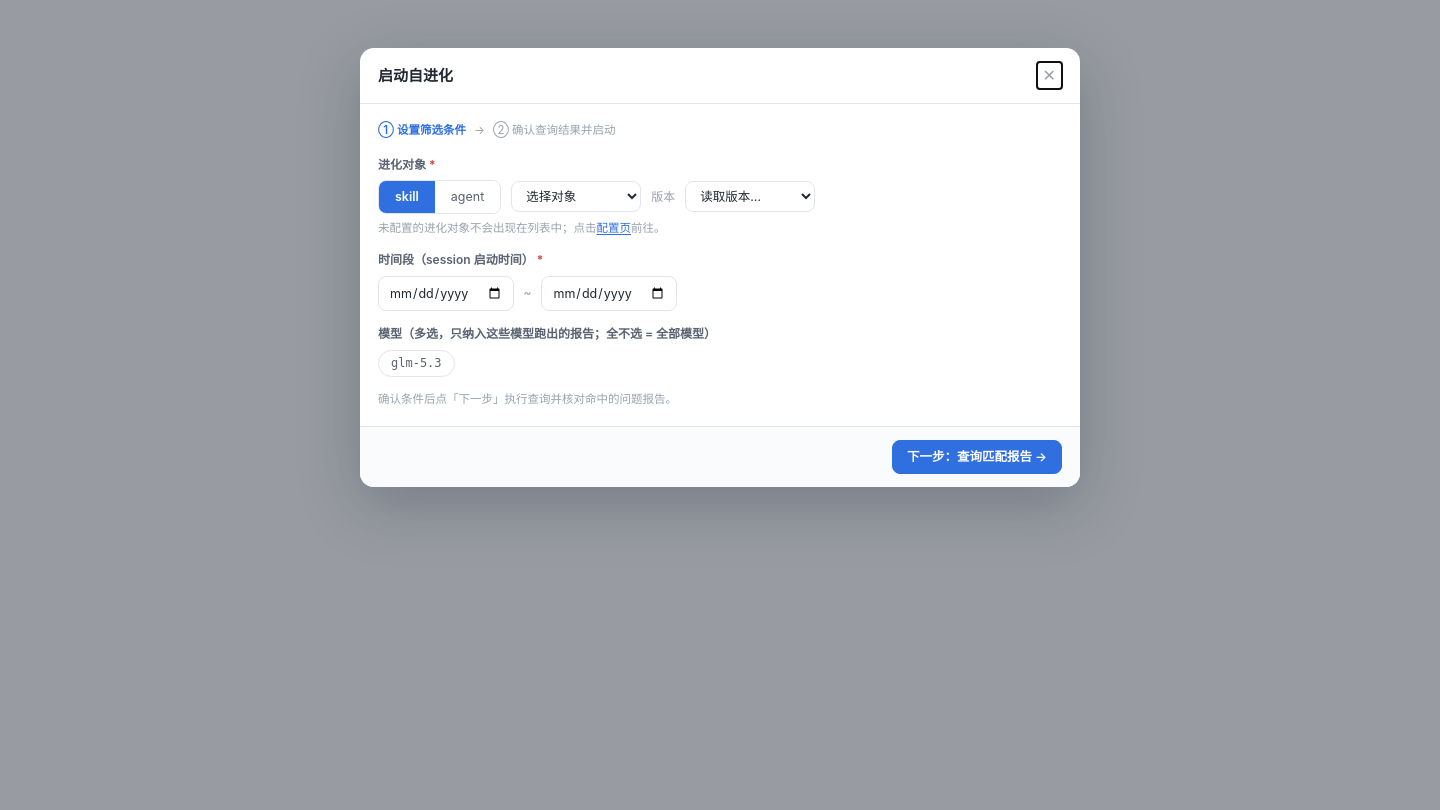
Test: launch wizard › renders only nonzero attribution types in the distribution and legend
The image size is (1440, 810).
Select "deep-research" in the dropdown with test id "wizard-target" at (576, 197), box top-left (511, 181), bottom-right (641, 212)
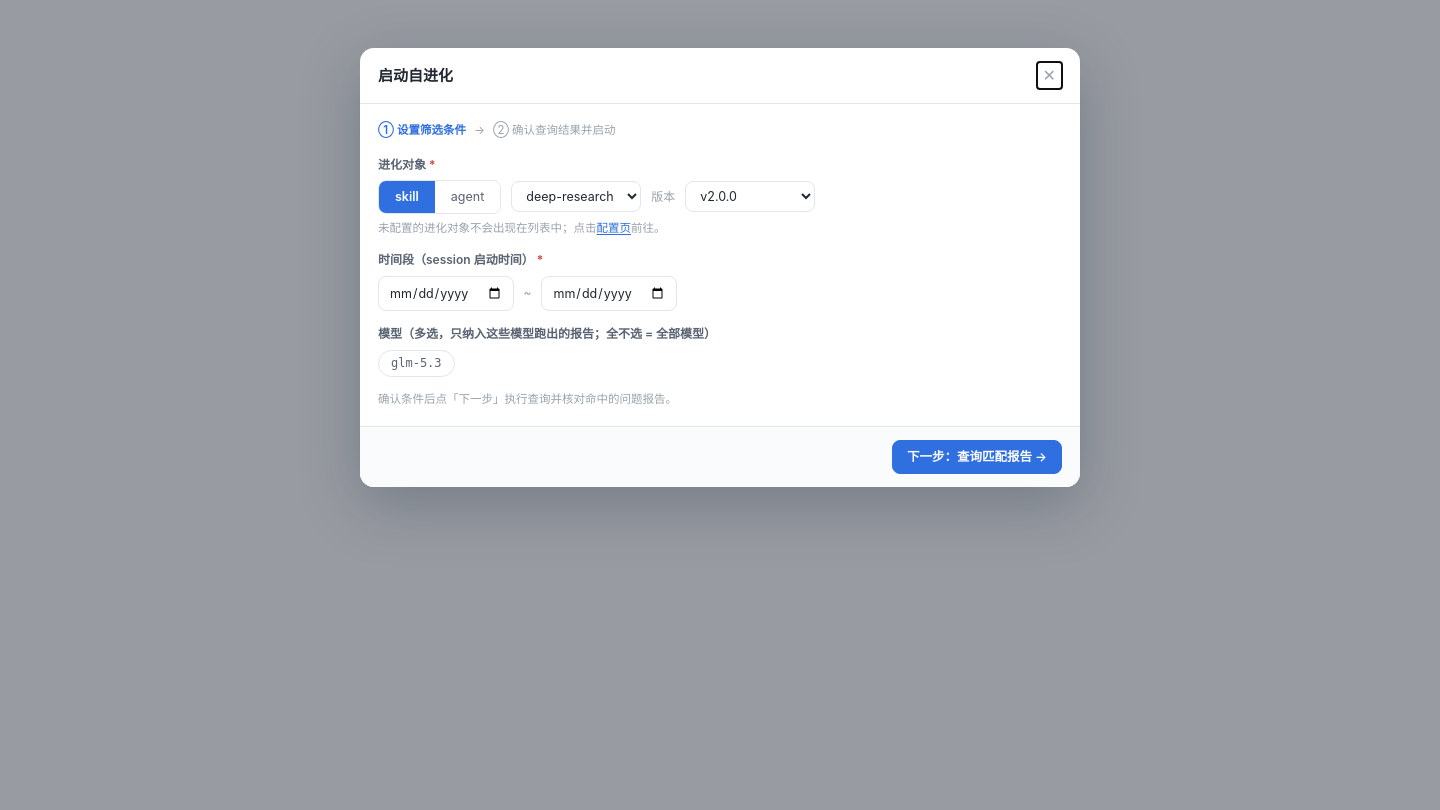
Select "v2.0.0" in the dropdown with test id "wizard-version" at (750, 197), box top-left (685, 181), bottom-right (815, 212)
Type "2026-08-01" into the date field with test id "wizard-from" at (446, 294), box top-left (378, 276), bottom-right (514, 311)
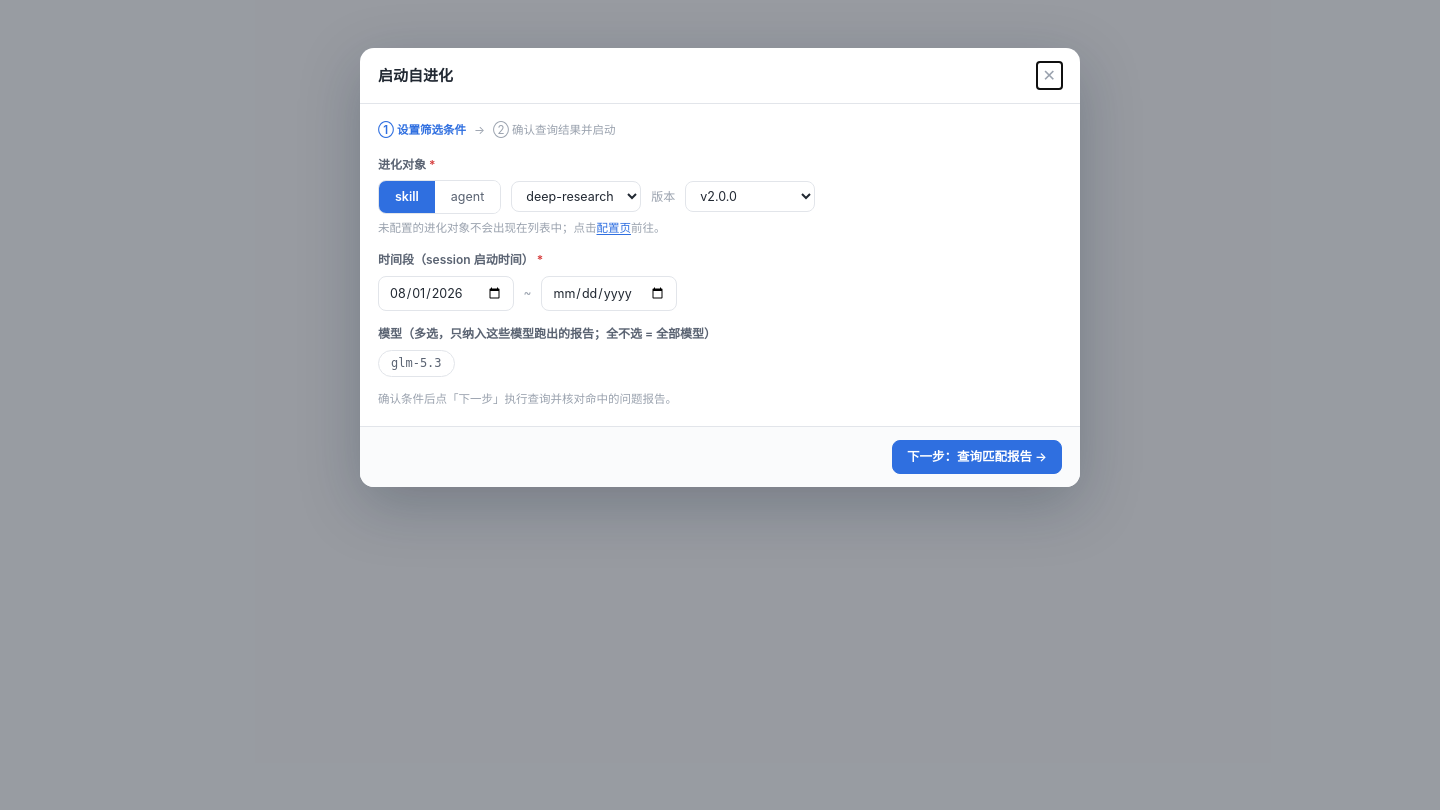
Type "2026-08-31" into the date field with test id "wizard-to" at (609, 294), box top-left (542, 276), bottom-right (677, 311)
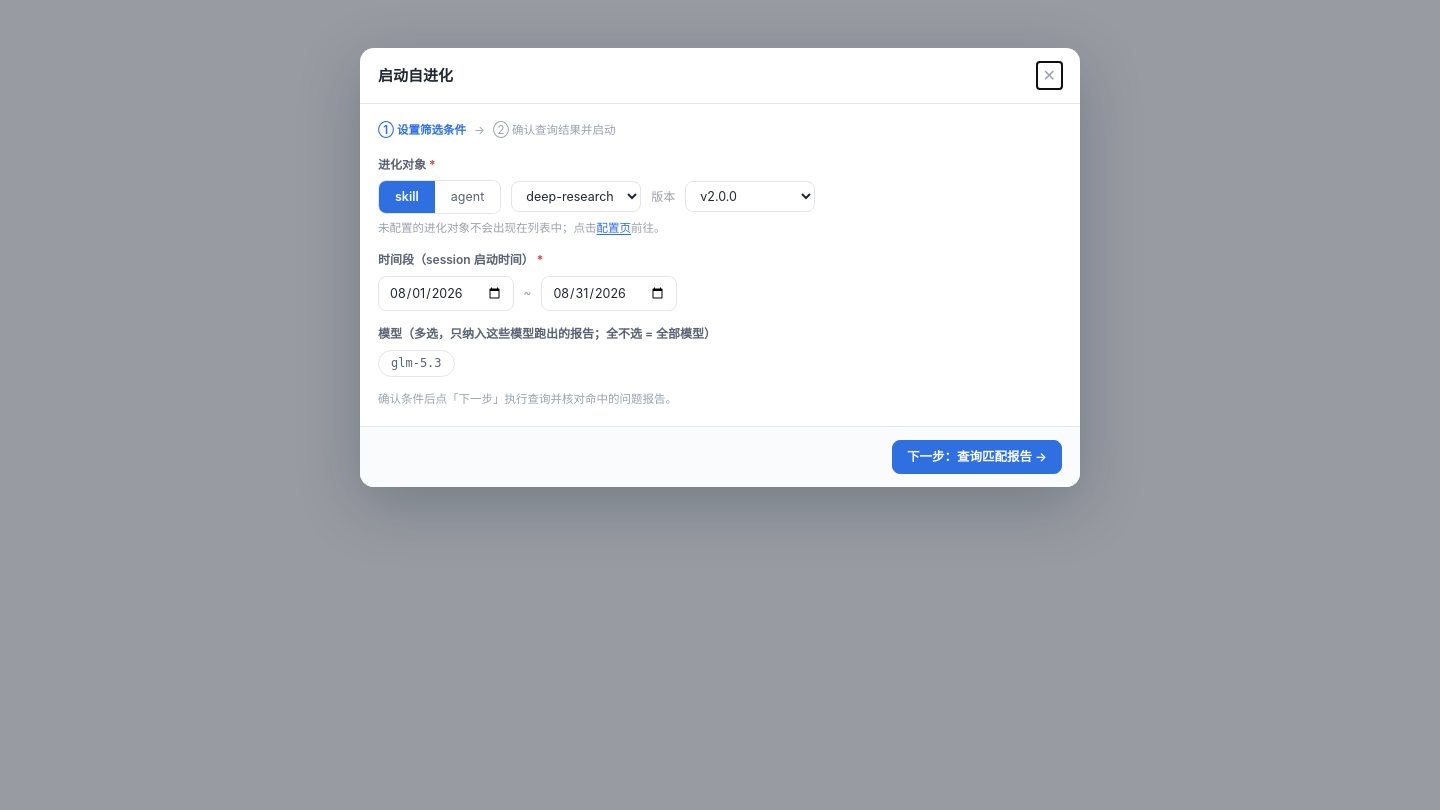
Click the button with test id "wizard-next" at (977, 457), box top-left (892, 440), bottom-right (1062, 474)
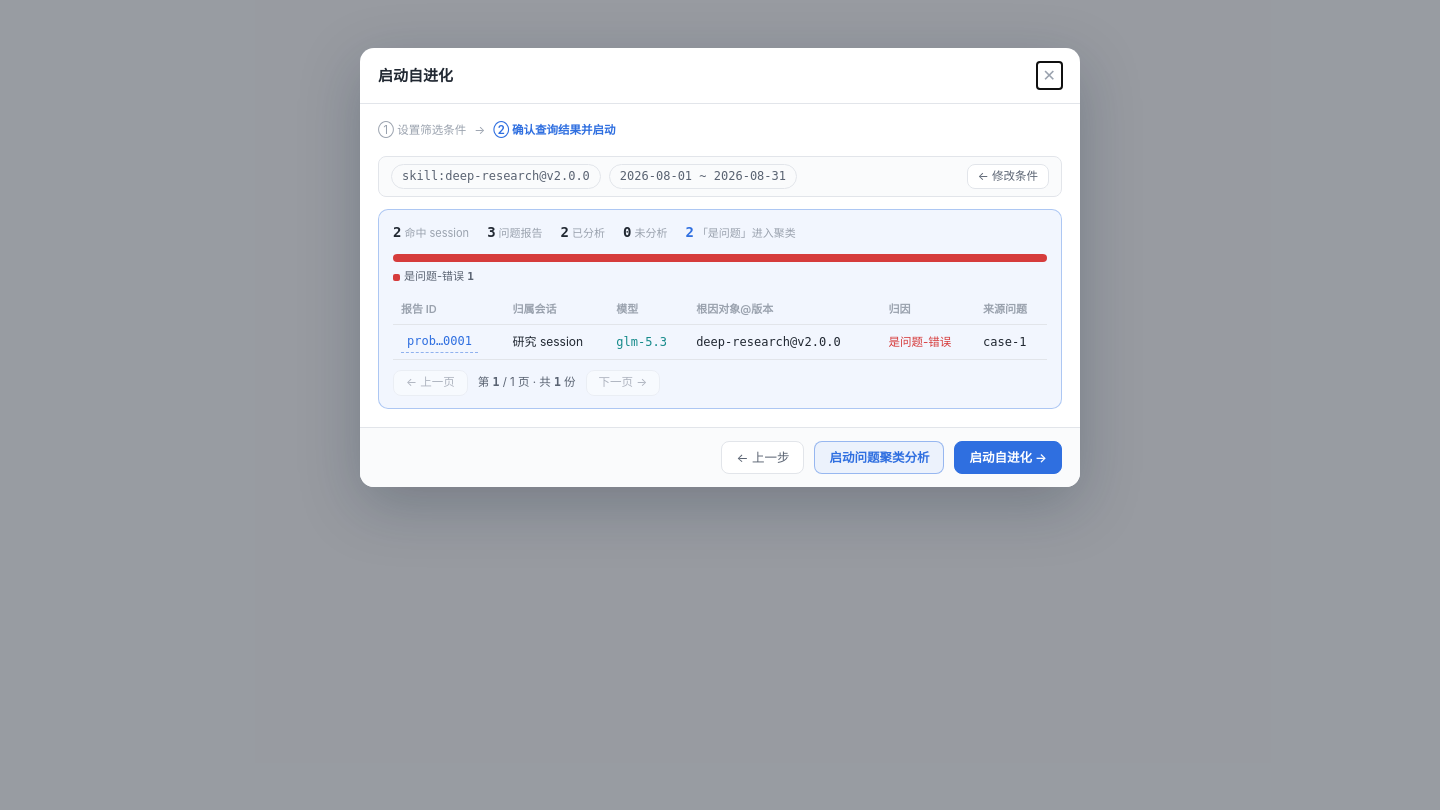
Expected: the element with class "wz-legend" shows "是问题-错误", top-left (404, 269), bottom-right (467, 283)
Expected: the element with class "wz-stats" shows "0未分析", top-left (393, 224), bottom-right (796, 240)
